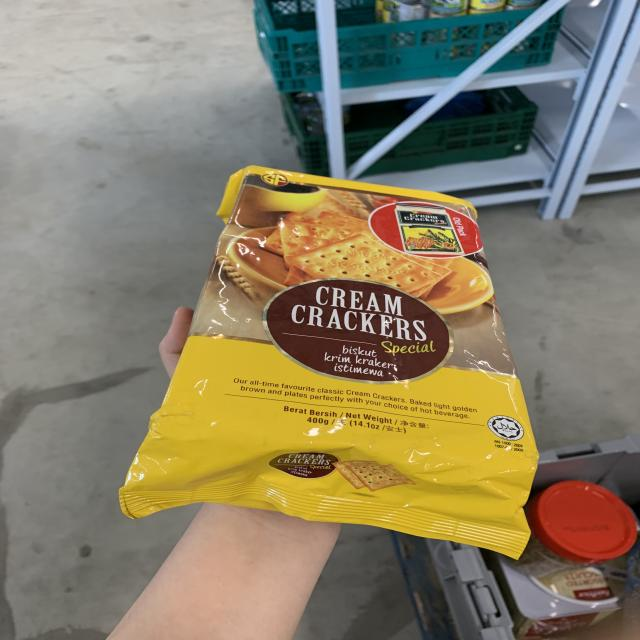object_name: (179, 166, 529, 540)
